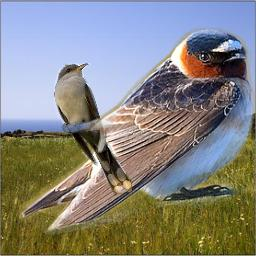Cuckoo: (54, 63, 132, 194)
Swallow: (19, 28, 256, 238)
